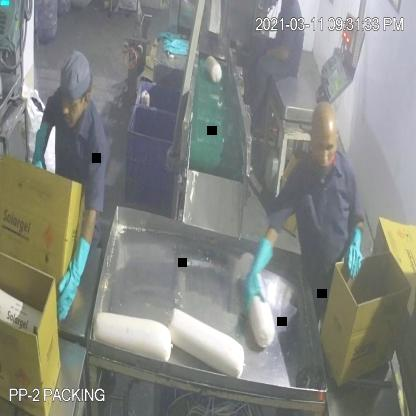glove: (52, 236, 93, 320), (238, 233, 279, 314), (346, 218, 368, 284)
